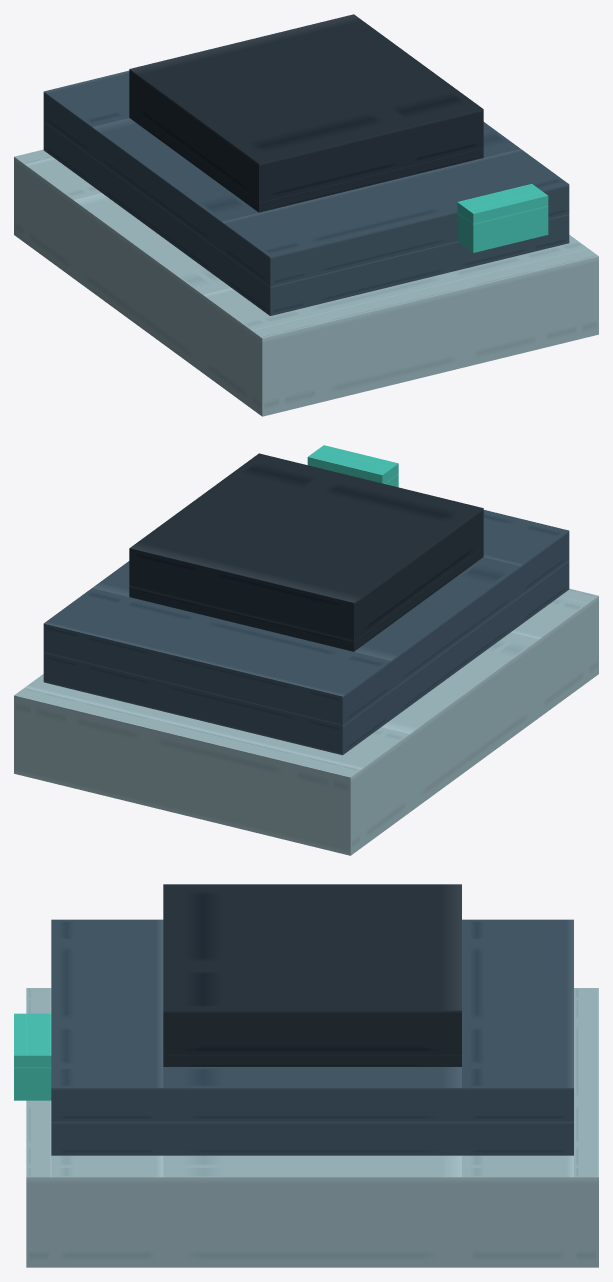
The model's file is sc_mount_hard_disk.obj.
3 views of the same model, one above another, from view 1: azimuth 30°, elevation 25°; view 2: azimuth 150°, elevation 25°; view 3: azimuth 270°, elevation 25° (orthographic). The views are drawn at different scales.
Size of the model in its own units: 3.6 by 2 by 4.7.
Materials: 1 (1 with a texture image).
